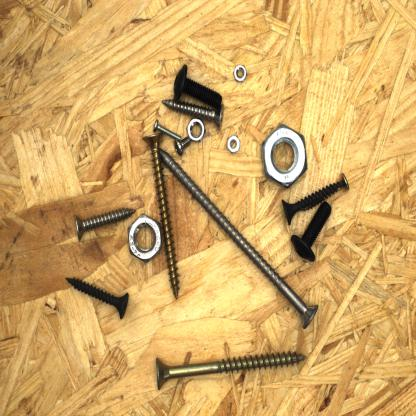screw: (156, 144, 322, 332), (140, 128, 183, 304), (153, 348, 310, 393), (64, 273, 132, 322), (279, 178, 345, 228), (288, 198, 334, 266), (167, 61, 225, 111), (73, 204, 138, 244), (159, 96, 227, 133), (296, 171, 351, 216), (150, 117, 184, 144), (171, 132, 193, 158)
